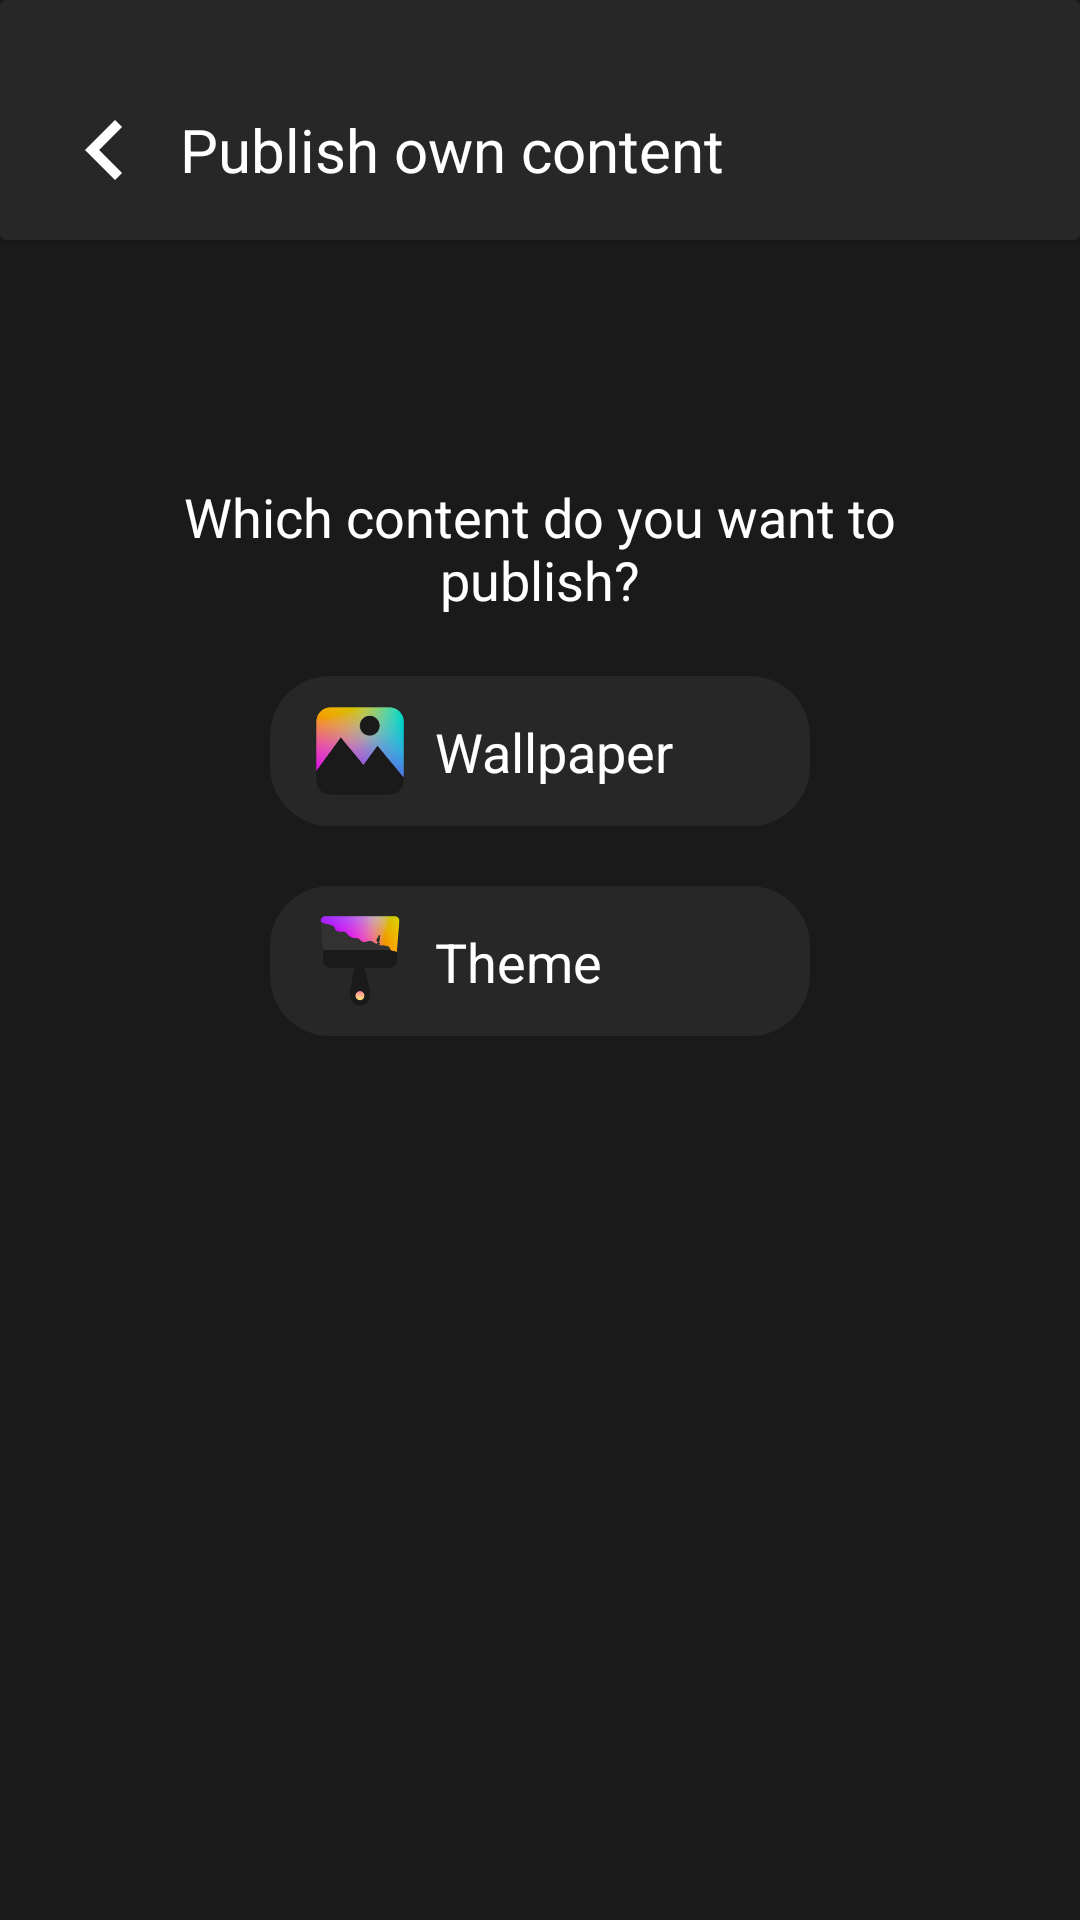

Locate icon controls on the screen. Image size 1080x1920, boxes as [left=x1, top=y1, right=x2, bottom=y2].
back: [left=85, top=120, right=122, bottom=180]
